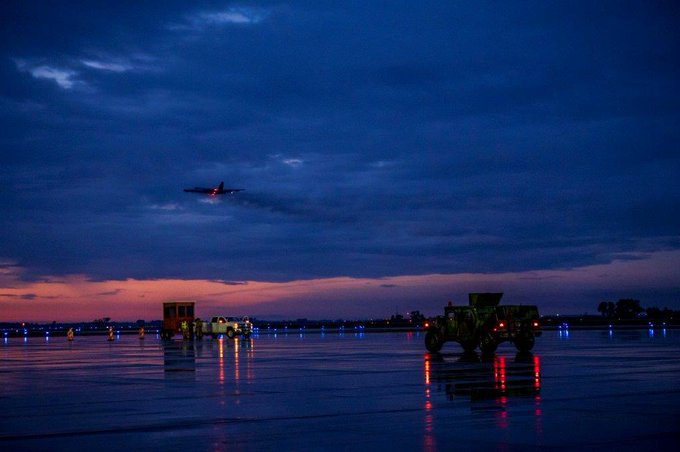B52: (182, 180, 247, 196)
